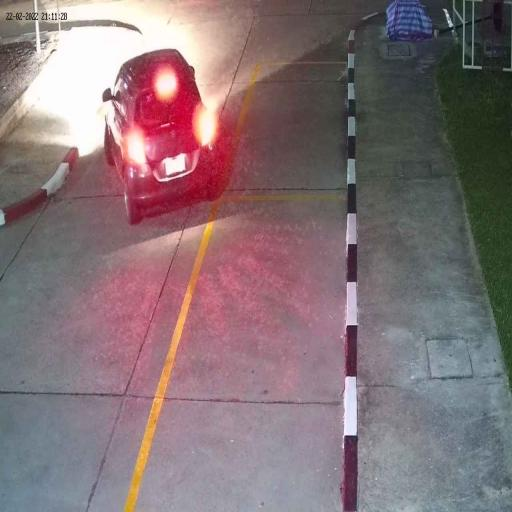car: (103, 45, 221, 215)
